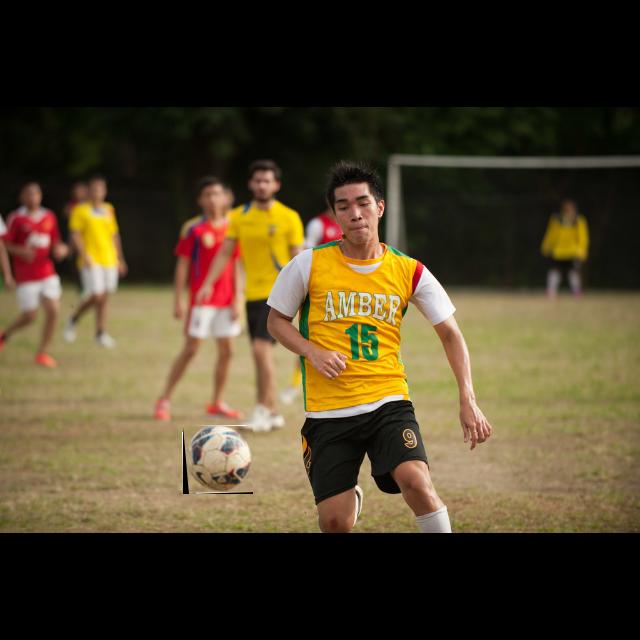Football: (183, 426, 253, 494)
